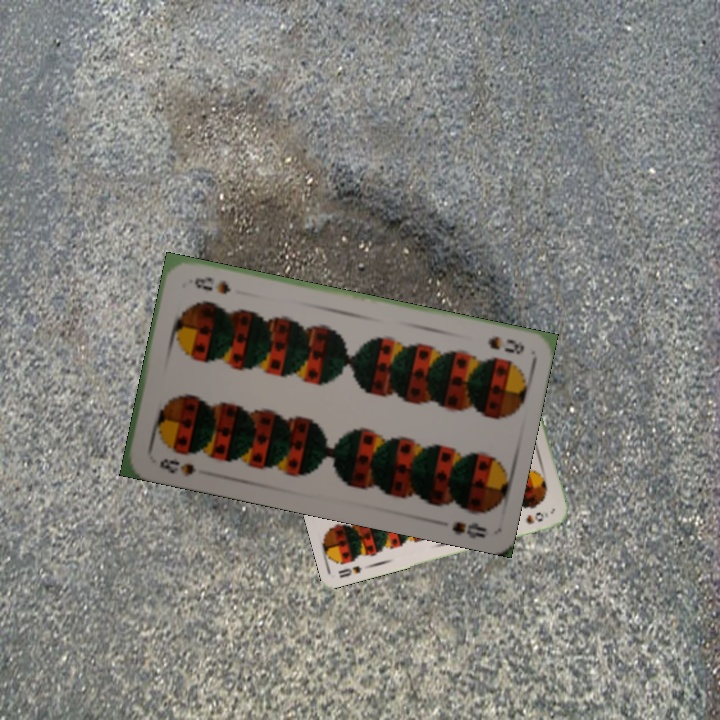S8: (155, 454, 198, 479), (484, 332, 527, 357), (334, 562, 364, 580)
